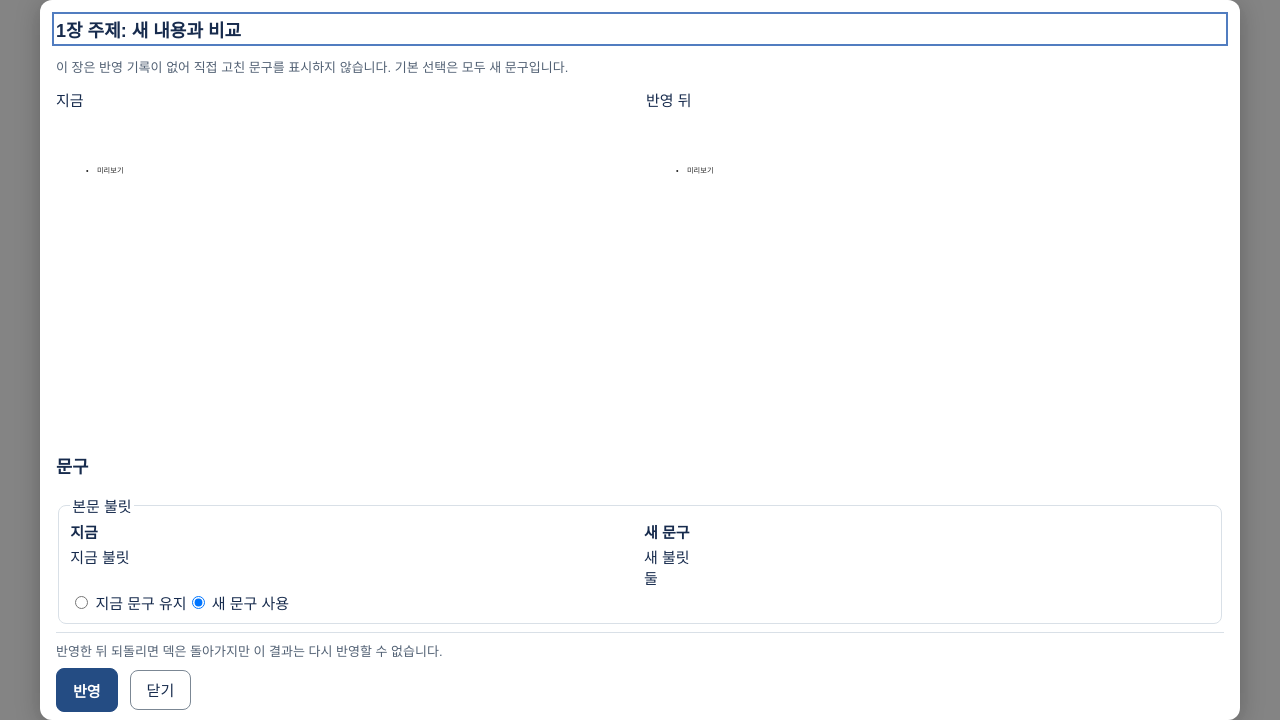
Test: 다시 계산한 미리 보기가 실패하면 반영을 막는다 (리뷰 G5)
What coordinates should you click on to do the following:
click the radio button labelled "지금 문구 유지"
I would click on:
 (82, 603)
Its box is x1=75 y1=596 x2=88 y2=609.
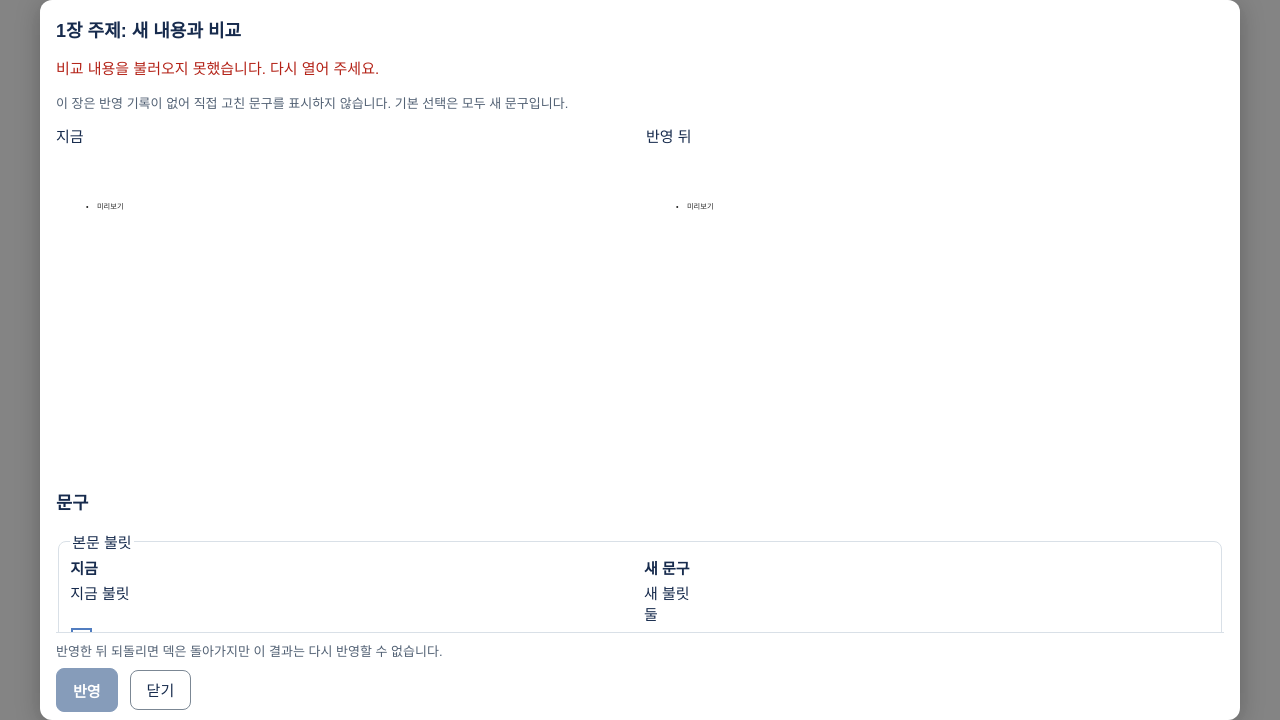
Expected: the message shows "비교 내용을 불러오지 못했습니다", x1=56 y1=60 x2=379 y2=77
Expected: the button "반영" is disabled, x1=56 y1=668 x2=118 y2=712
